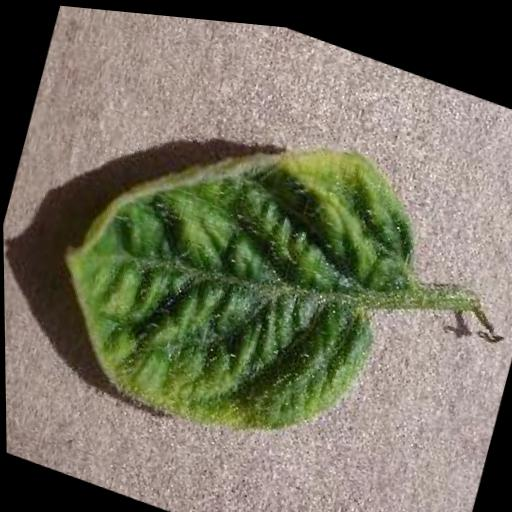Yellow Leaf Curl Virus: (33, 53, 444, 481)
